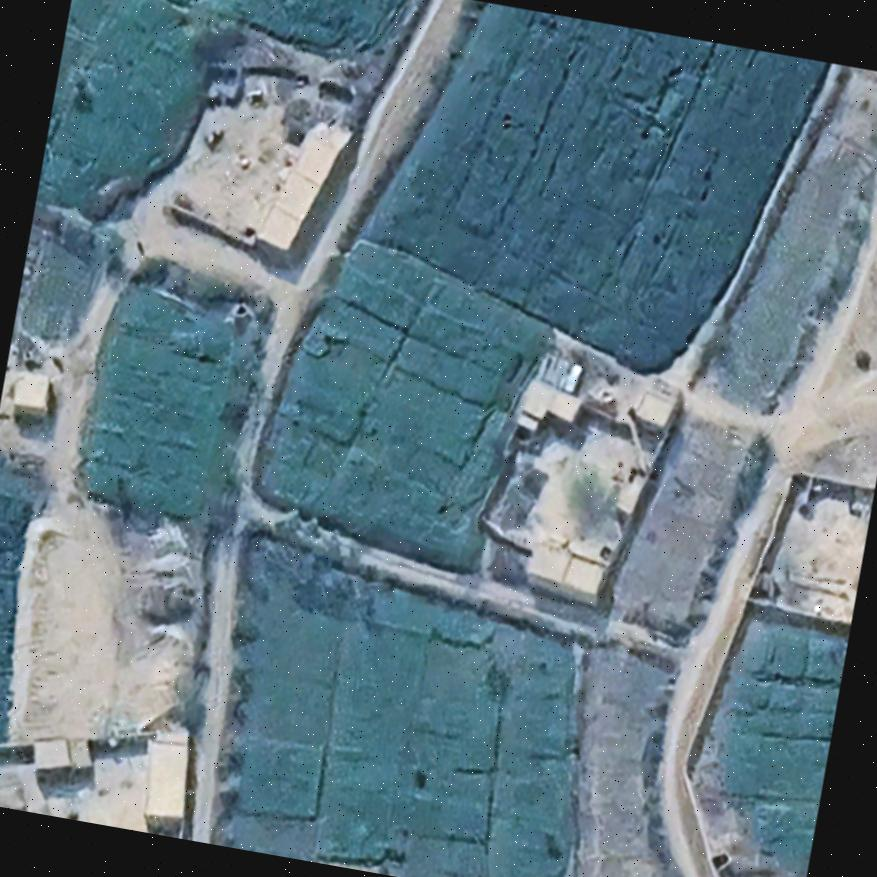Solarpanel: (535, 343, 586, 397)
